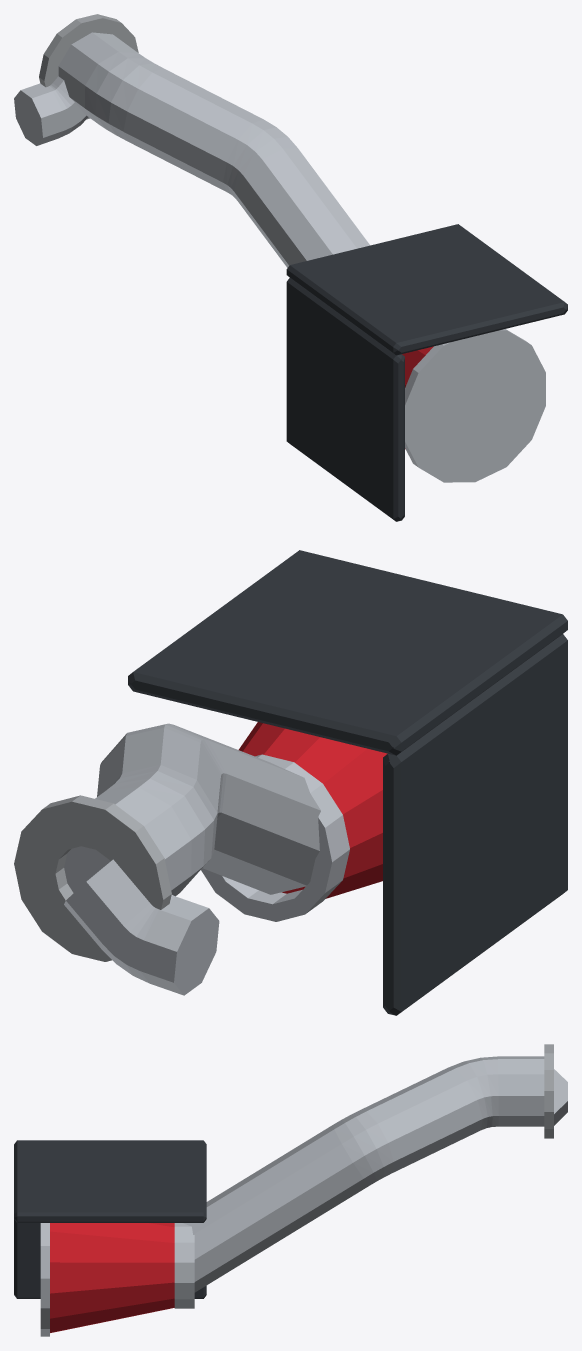
The model's file is brute_500.glb.
3 views of the same model, one above another, from view 1: azimuth 30°, elevation 25°; view 2: azimuth 150°, elevation 25°; view 3: azimuth 270°, elevation 25° (orthographic). The views are drawn at different scales.
Parts seen in each view (by area): view 1: model; view 2: model; view 3: model.
Part boxes in pixels (bbox=[...]): model: bbox=[14, 14, 567, 521]; model: bbox=[14, 550, 567, 1015]; model: bbox=[14, 1044, 567, 1336].
Bounding box in the file's own units: 0.3029 × 0.3386 × 0.6896.
2 materials, 1 textured.
